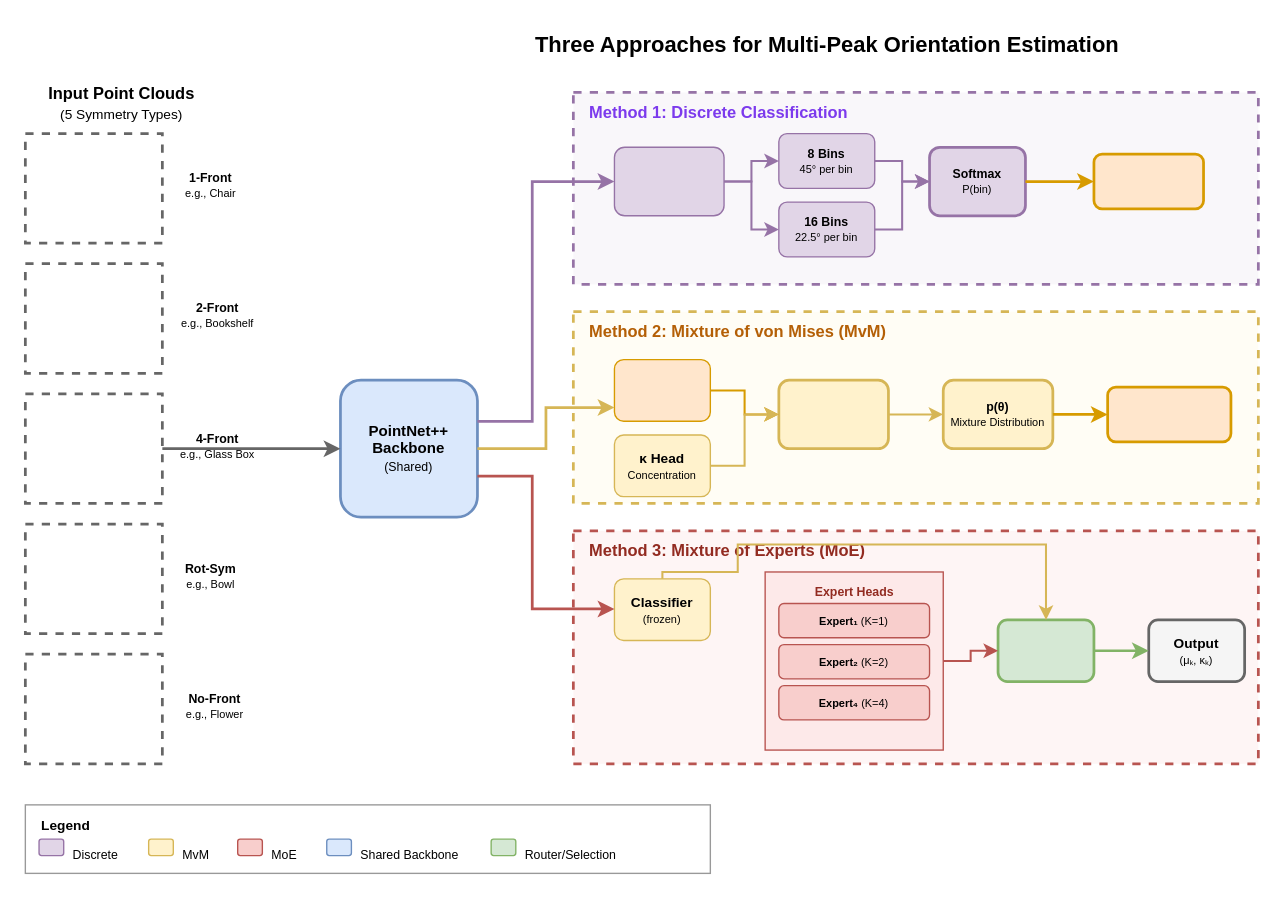
Some shapes in this 1282 by 897 pixel diagram are drawn without their labels. Here are the shapes that lost their labels. From the top down, the box of each, then its label:
(613, 146, 724, 216): FC Head Classification
(1092, 152, 1204, 210): CE Loss
(613, 358, 710, 421): μ Head Direction
(777, 378, 889, 449): 4 von Mises (μᵢ, κᵢ) × 4
(1106, 385, 1232, 443): KL + Hungarian
(996, 618, 1095, 682): Router argmax(w)
